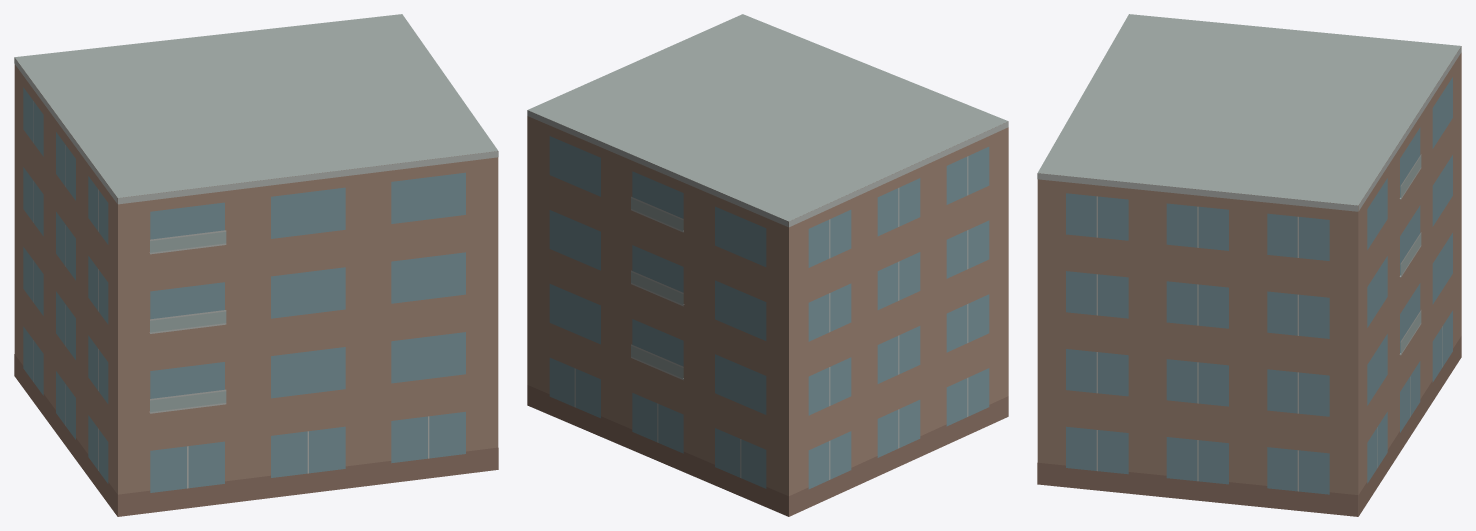
File: survey-upis-32707093.glb
The picture shows the model from 3 angles, left to right: view 1: azimuth 30°, elevation 25°; view 2: azimuth 150°, elevation 25°; view 3: azimuth 270°, elevation 25°; orthographic projection. The views are drawn at different scales.
Visible parts, largest first — view 1: survey-upis-32707093.tmp; view 2: survey-upis-32707093.tmp; view 3: survey-upis-32707093.tmp.
Part boxes in pixels (x1,y1,x2,y2): survey-upis-32707093.tmp: (14,14,498,516); survey-upis-32707093.tmp: (527,14,1008,516); survey-upis-32707093.tmp: (1037,14,1461,516).
Bounding box in the file's own units: 16.11 × 12.2 × 15.07.
